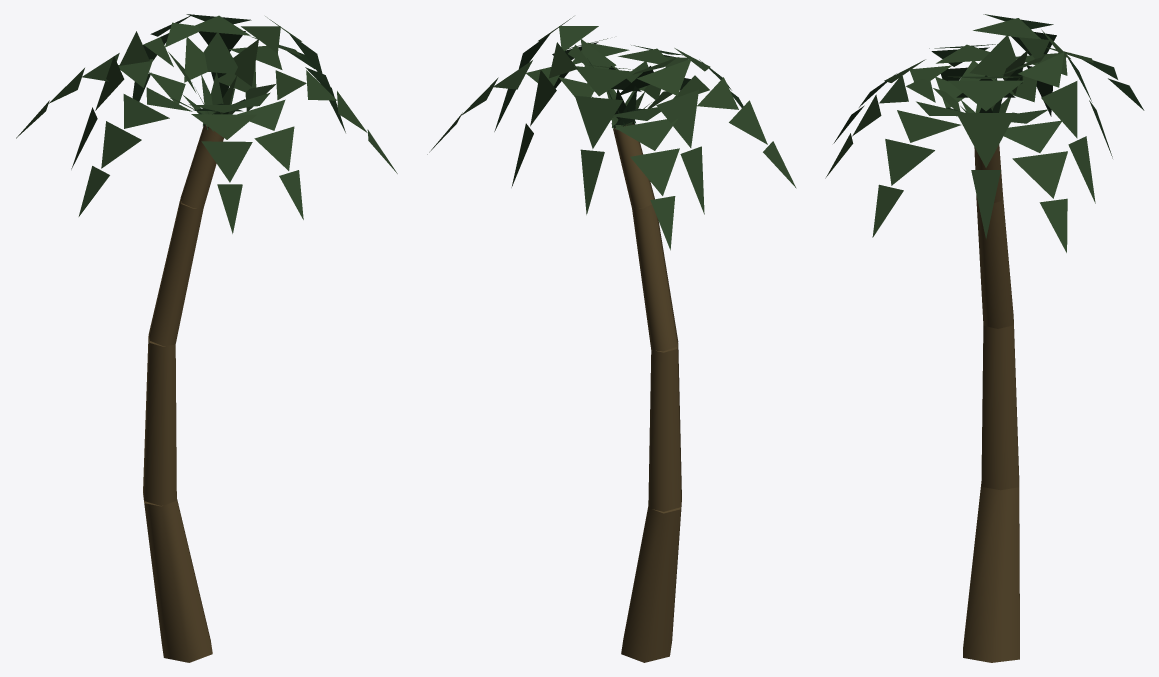
Rendered from palm.glb.
3 views of the same model, side by side, from view 1: azimuth 30°, elevation 25°; view 2: azimuth 150°, elevation 25°; view 3: azimuth 270°, elevation 25° (orthographic). The views are drawn at different scales.
Parts seen in each view (by area): view 1: palm; view 2: palm; view 3: palm.
Part boxes in pixels (bbox=[...]): palm: bbox=[16, 14, 397, 662]; palm: bbox=[427, 16, 796, 662]; palm: bbox=[825, 14, 1144, 662].
Bounding box in the file's own units: 27.13 × 49.88 × 23.14.
